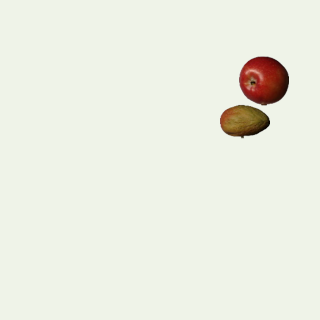Apple Braeburn: (238, 55, 288, 105)
Papaya: (219, 96, 269, 146)
